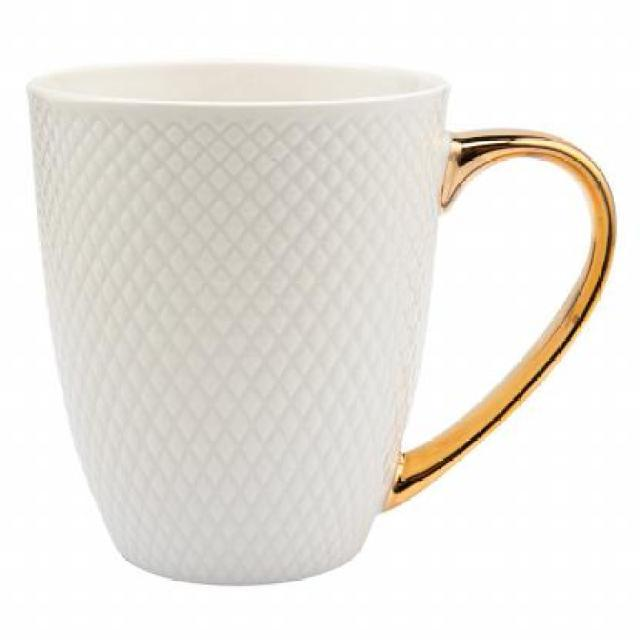cup: (20, 57, 625, 593)
